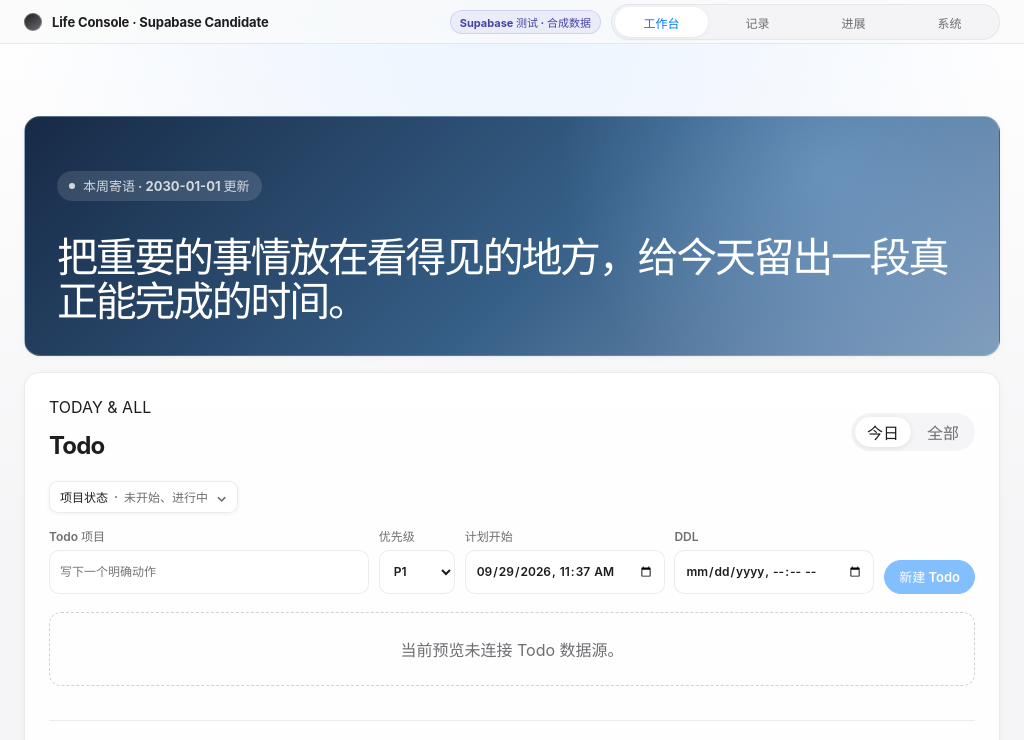
it: Supabase candidate product application › joins a newer successful refresh before confirming a journal save
This screenshot has width=1024, height=740.
Click the button "记录". click: [757, 22]
box: [711, 7, 804, 37]
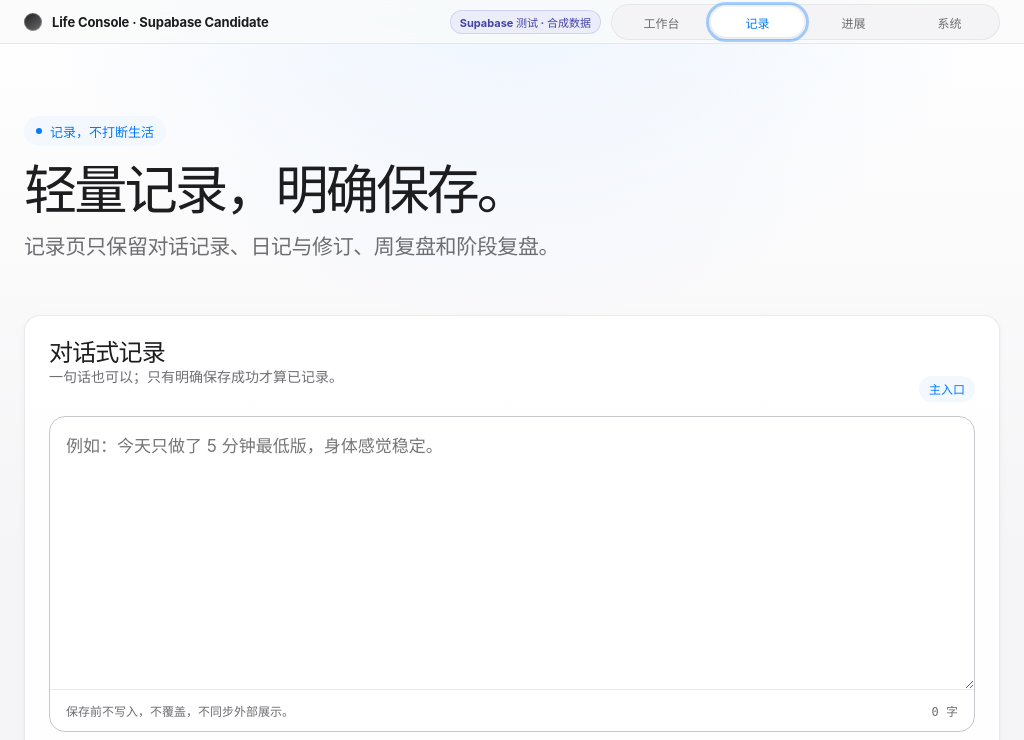
Type "合成日志" into the text box named "直接描述想记录的内容". click: [512, 553]
box: [50, 417, 974, 689]
(page scrolled)
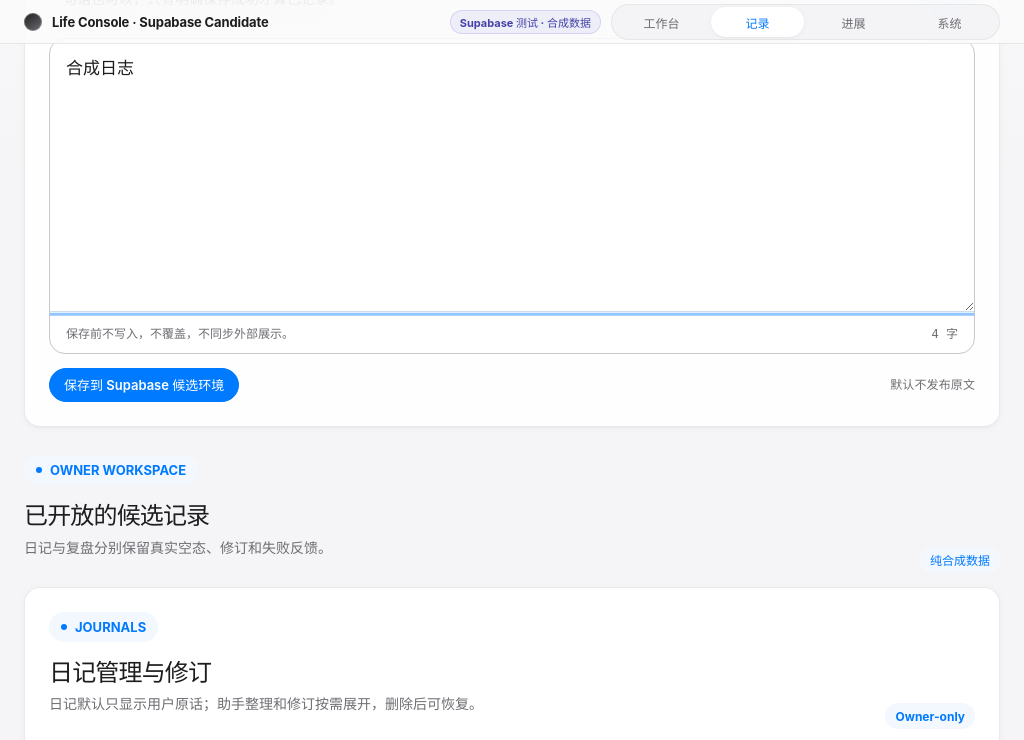
Click the button "保存到 Supabase 候选环境". click: [144, 385]
box: [49, 368, 239, 402]
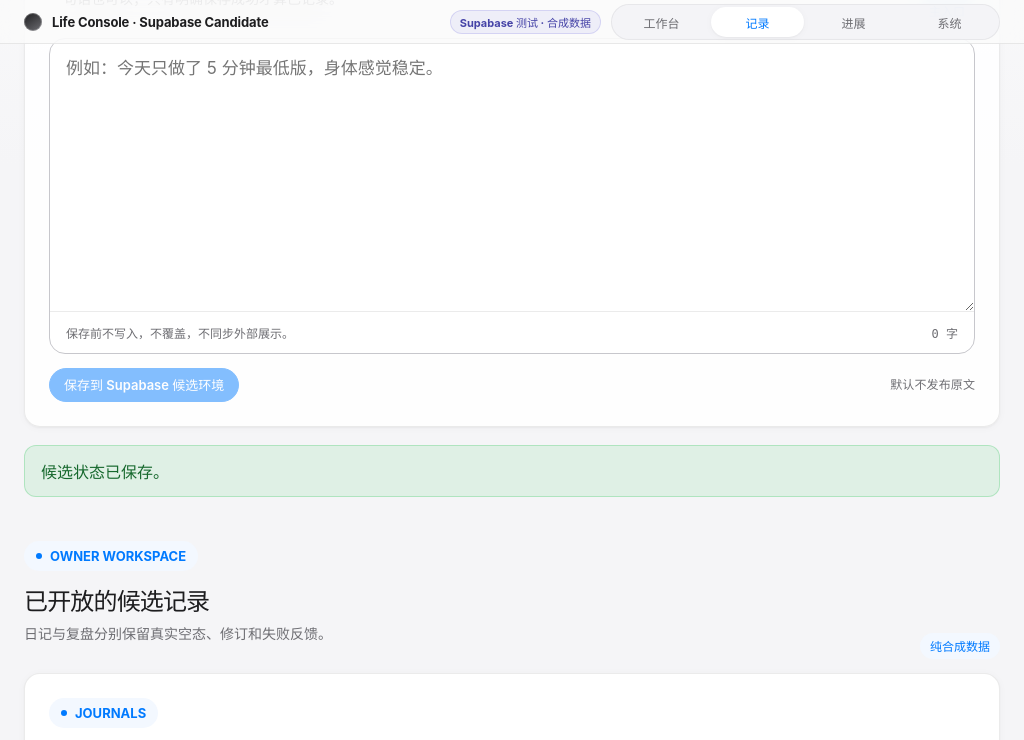
Expected: the text "候选状态已保存。" is shown, [24, 445, 1000, 497]
